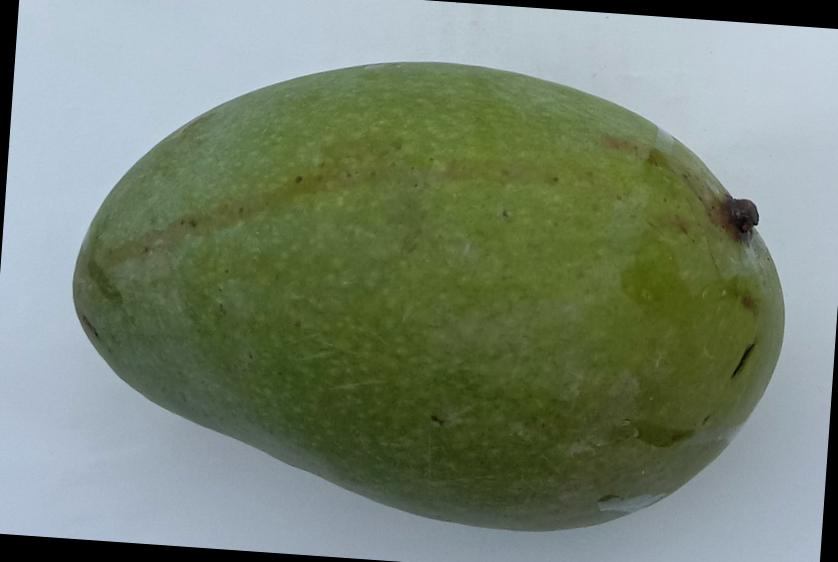Mango Unripe: (9, 1, 838, 547)
